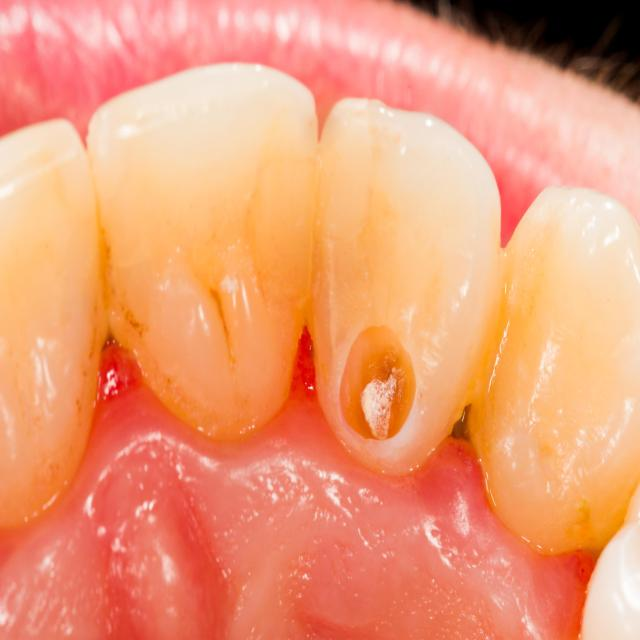Caries: (210, 289, 236, 365)
Cavity: (340, 324, 416, 441)
Tooth: (87, 61, 318, 444), (310, 96, 504, 479), (470, 185, 640, 557), (0, 116, 110, 530)
